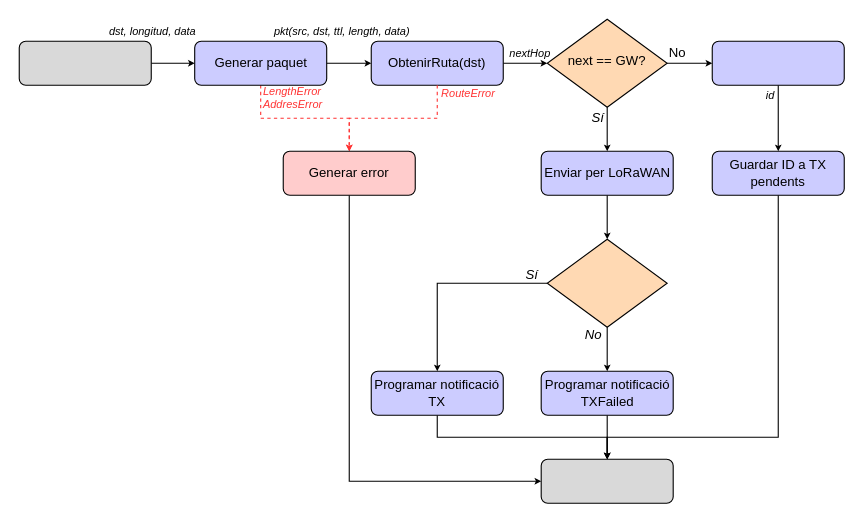
This 864x523 diagram has some shape labels left out. Each missing label, with the box of its shape:
Enviar: (18, 40, 151, 85)
Enviar per accés al medi: (711, 40, 844, 85)
estat == OK?: (546, 238, 667, 327)
Fi: (540, 458, 673, 503)
